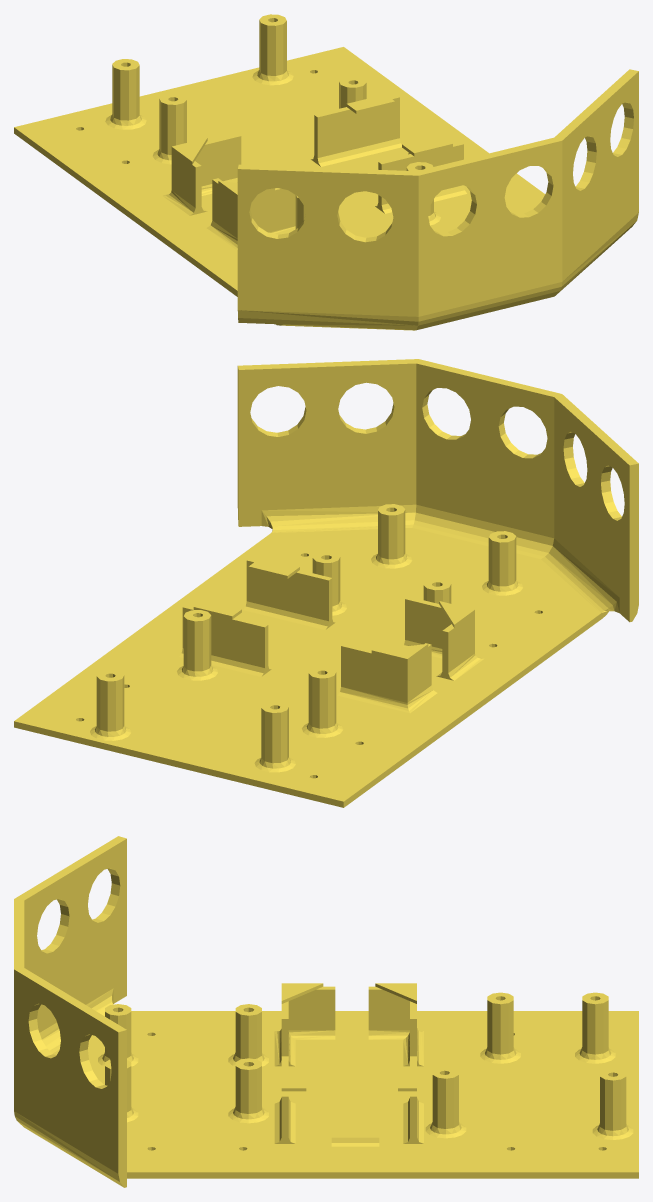
The model's file is AutonomousRacerBot.glb.
3 renders of one model, top to bottom at view 1: azimuth 30°, elevation 25°; view 2: azimuth 150°, elevation 25°; view 3: azimuth 270°, elevation 25°, orthographic.
Parts seen in each view (by area): view 1: Chassis_RacingYellow_PLA; view 2: Chassis_RacingYellow_PLA; view 3: Chassis_RacingYellow_PLA.
Boxes of the visible parts, x1,y1,x2,y2 form: Chassis_RacingYellow_PLA: (14, 14, 638, 330); Chassis_RacingYellow_PLA: (14, 359, 638, 807); Chassis_RacingYellow_PLA: (14, 836, 638, 1187).
Size of the model in its own units: 134 by 52 by 180.
